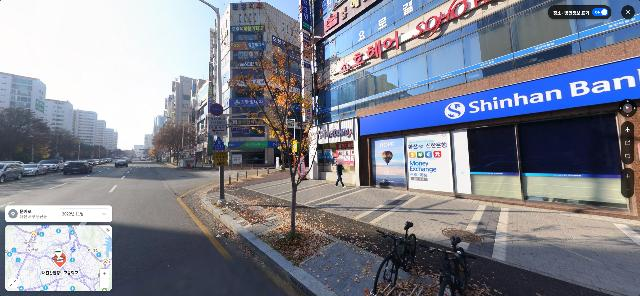other: (236, 23, 328, 238), (0, 103, 118, 161), (152, 118, 196, 165), (268, 139, 297, 171)
